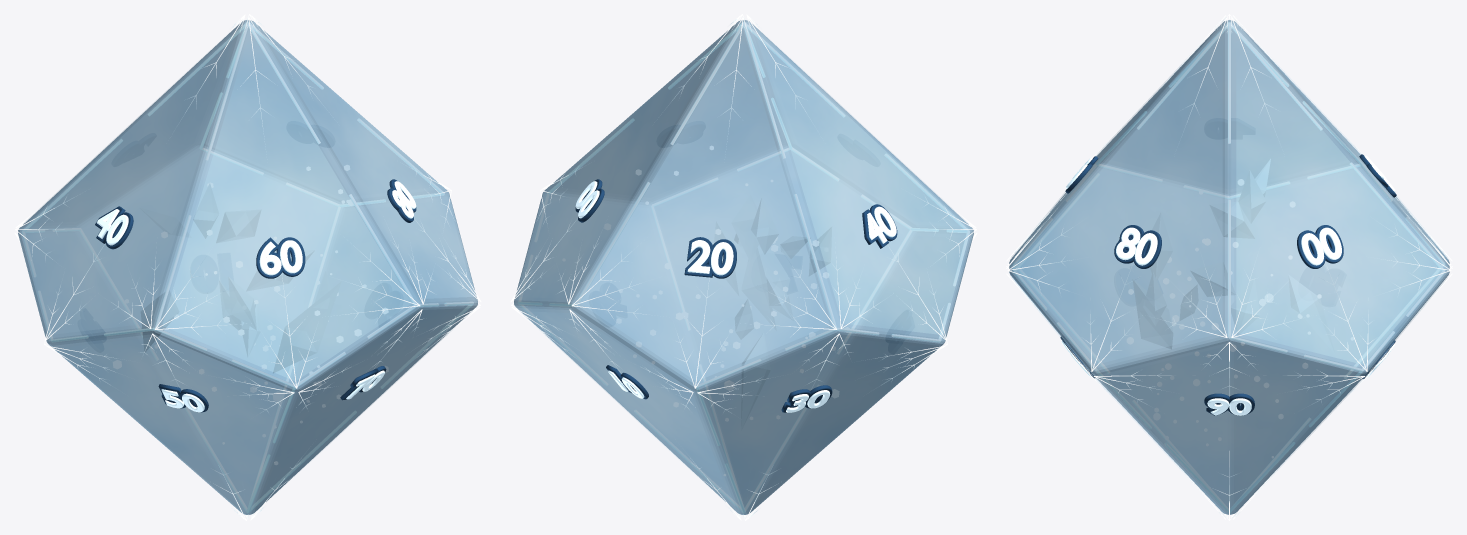
File: D10_百分骰_00-90_月白冰晶_baked.glb
3 renders of one model, left to right at view 1: azimuth 30°, elevation 25°; view 2: azimuth 150°, elevation 25°; view 3: azimuth 270°, elevation 25°, orthographic.
Parts seen in each view (by area): view 1: D10_00_90_Body_10_Faces, D10_00_90_Continuous_Frost_Gradient_v3, D10_00_90_Moonwhite_Broken_Ice_Seam, D10_00_90_Floating_Ice_Shards, D10_00_90_Every_Face_Vertex_Frost_v6, D10_00_90_Face_07_60, D10_00_90_Floating_Frost_Motes, D10_00_90_Face_07_60_Dark_Ice_Back_v7, D10_00_90_Face_05_40, D10_00_90_Face_06_50, D10_00_90_Face_05_40_Dark_Ice_Back_v7; view 2: D10_00_90_Body_10_Faces, D10_00_90_Continuous_Frost_Gradient_v3, D10_00_90_Moonwhite_Broken_Ice_Seam, D10_00_90_Floating_Ice_Shards, D10_00_90_Every_Face_Vertex_Frost_v6, D10_00_90_Floating_Frost_Motes, D10_00_90_Face_03_20, D10_00_90_Face_03_20_Dark_Ice_Back_v7, D10_00_90_Face_05_40, D10_00_90_Face_05_40_Dark_Ice_Back_v7; view 3: D10_00_90_Body_10_Faces, D10_00_90_Continuous_Frost_Gradient_v3, D10_00_90_Floating_Ice_Shards, D10_00_90_Moonwhite_Broken_Ice_Seam, D10_00_90_Every_Face_Vertex_Frost_v6, D10_00_90_Floating_Frost_Motes, D10_00_90_Face_09_80, D10_00_90_Face_01_00, D10_00_90_Face_01_00_Dark_Ice_Back_v7, D10_00_90_Face_09_80_Dark_Ice_Back_v7, D10_00_90_Face_10_90.
Part boxes in pixels (left/top/right/bottom): D10_00_90_Body_10_Faces: left=18, top=20, right=477, bottom=514; D10_00_90_Continuous_Frost_Gradient_v3: left=22, top=78, right=474, bottom=474; D10_00_90_Moonwhite_Broken_Ice_Seam: left=22, top=22, right=473, bottom=512; D10_00_90_Floating_Ice_Shards: left=140, top=184, right=340, bottom=372; D10_00_90_Every_Face_Vertex_Frost_v6: left=14, top=14, right=481, bottom=520; D10_00_90_Face_07_60: left=259, top=240, right=302, bottom=275; D10_00_90_Floating_Frost_Motes: left=113, top=165, right=388, bottom=464; D10_00_90_Face_07_60_Dark_Ice_Back_v7: left=256, top=237, right=305, bottom=278; D10_00_90_Face_05_40: left=96, top=209, right=128, bottom=245; D10_00_90_Face_06_50: left=161, top=389, right=204, bottom=412; D10_00_90_Face_05_40_Dark_Ice_Back_v7: left=95, top=206, right=133, bottom=249; D10_00_90_Body_10_Faces: left=514, top=20, right=973, bottom=514; D10_00_90_Continuous_Frost_Gradient_v3: left=517, top=69, right=969, bottom=472; D10_00_90_Moonwhite_Broken_Ice_Seam: left=518, top=22, right=969, bottom=512; D10_00_90_Floating_Ice_Shards: left=714, top=196, right=831, bottom=428; D10_00_90_Every_Face_Vertex_Frost_v6: left=510, top=14, right=977, bottom=520; D10_00_90_Floating_Frost_Motes: left=563, top=146, right=849, bottom=475; D10_00_90_Face_03_20: left=687, top=240, right=733, bottom=275; D10_00_90_Face_03_20_Dark_Ice_Back_v7: left=684, top=237, right=736, bottom=278; D10_00_90_Face_05_40: left=867, top=206, right=896, bottom=243; D10_00_90_Face_05_40_Dark_Ice_Back_v7: left=862, top=204, right=897, bottom=248; D10_00_90_Body_10_Faces: left=1009, top=20, right=1449, bottom=514; D10_00_90_Continuous_Frost_Gradient_v3: left=1011, top=74, right=1447, bottom=471; D10_00_90_Floating_Ice_Shards: left=1133, top=159, right=1334, bottom=353; D10_00_90_Moonwhite_Broken_Ice_Seam: left=1013, top=22, right=1445, bottom=512; D10_00_90_Every_Face_Vertex_Frost_v6: left=1006, top=14, right=1452, bottom=520; D10_00_90_Floating_Frost_Motes: left=1127, top=179, right=1353, bottom=457; D10_00_90_Face_09_80: left=1116, top=227, right=1157, bottom=265; D10_00_90_Face_01_00: left=1301, top=227, right=1341, bottom=265; D10_00_90_Face_01_00_Dark_Ice_Back_v7: left=1297, top=225, right=1343, bottom=268; D10_00_90_Face_09_80_Dark_Ice_Back_v7: left=1114, top=225, right=1161, bottom=268; D10_00_90_Face_10_90: left=1207, top=398, right=1251, bottom=415.
Size of the model in its own units: 3.62 by 4.28 by 3.44.
11 materials, 2 textured.
